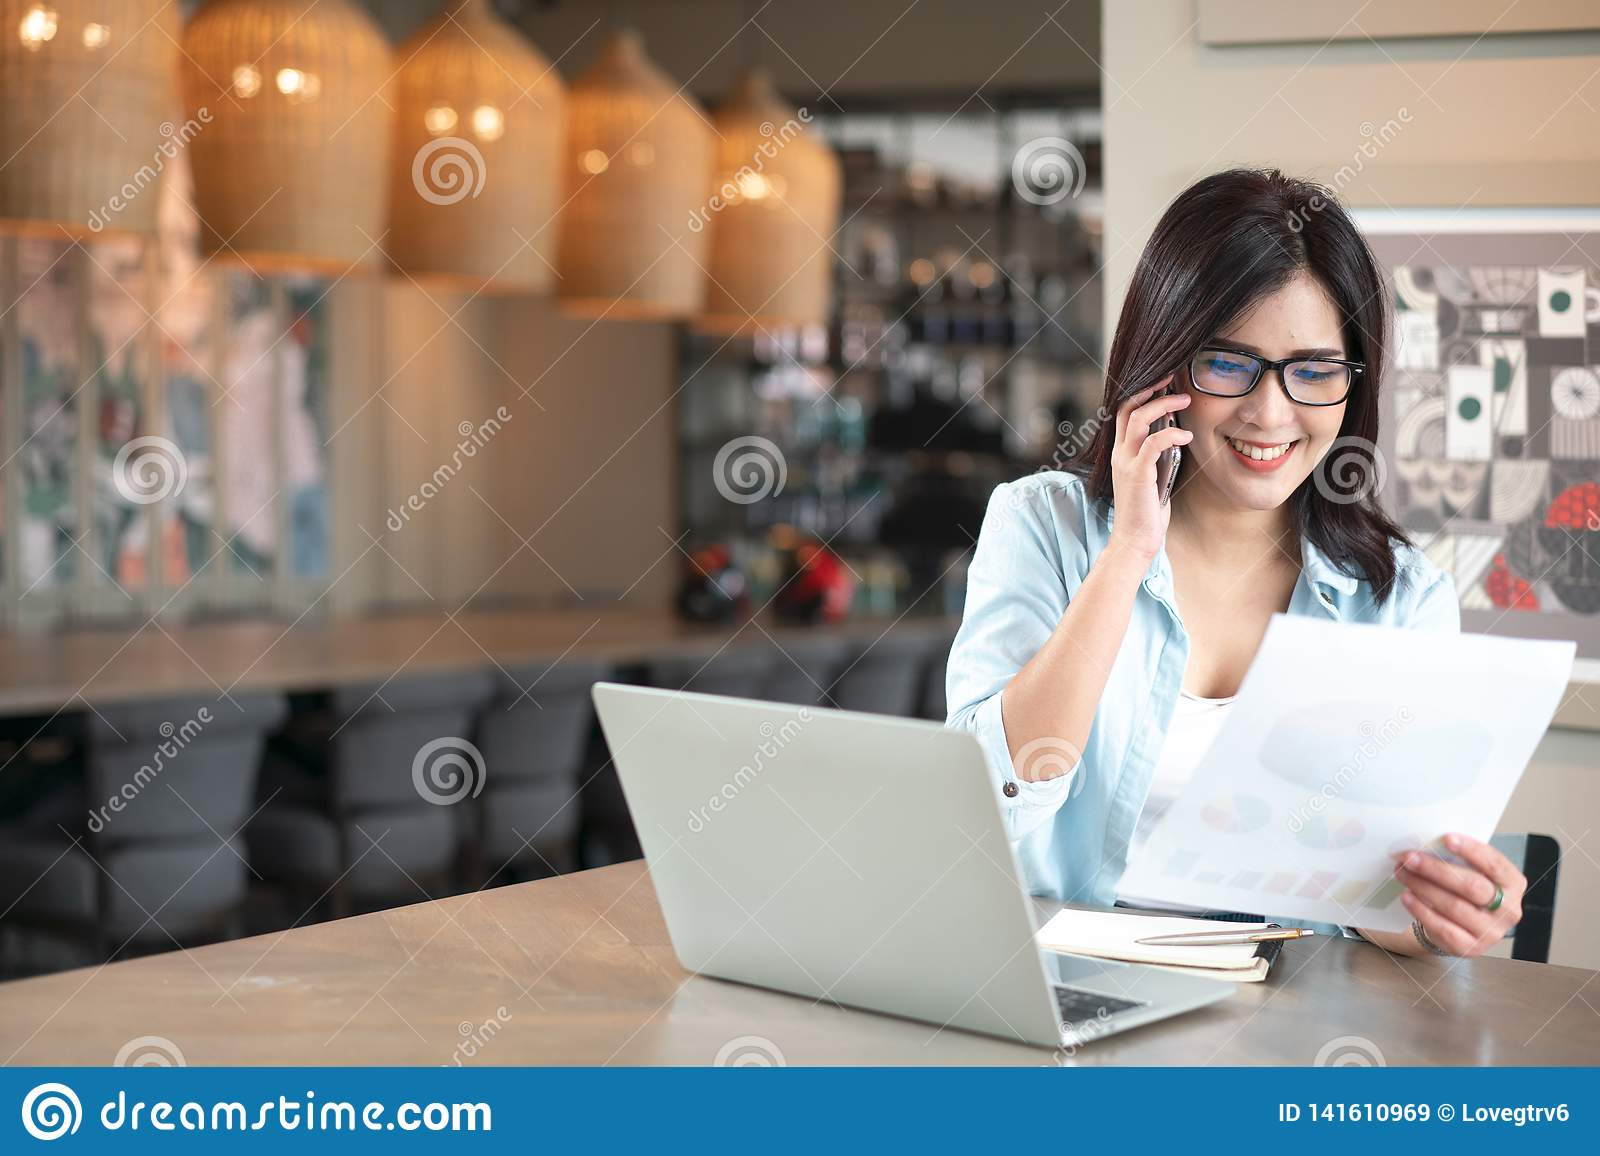phone: (1139, 374, 1188, 510)
talk: (1108, 332, 1352, 558)
